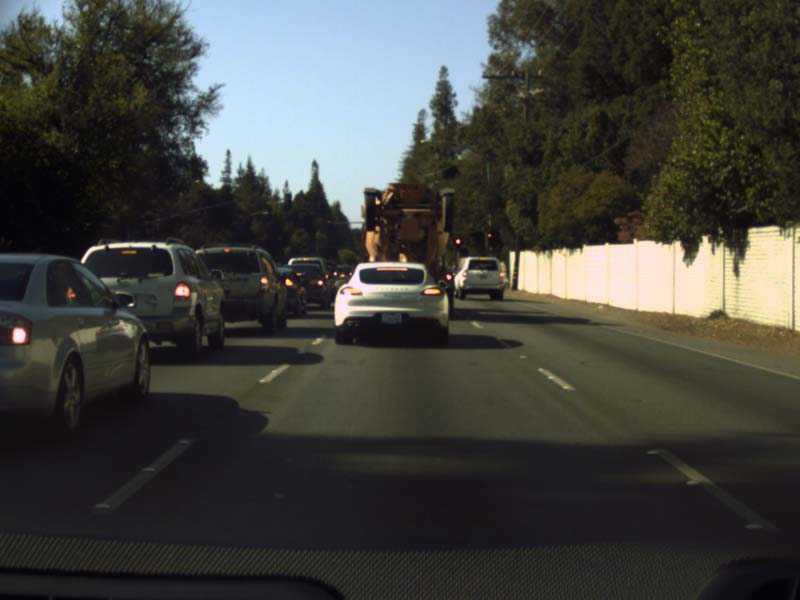Red: (453, 236, 462, 245), (486, 232, 492, 238)
